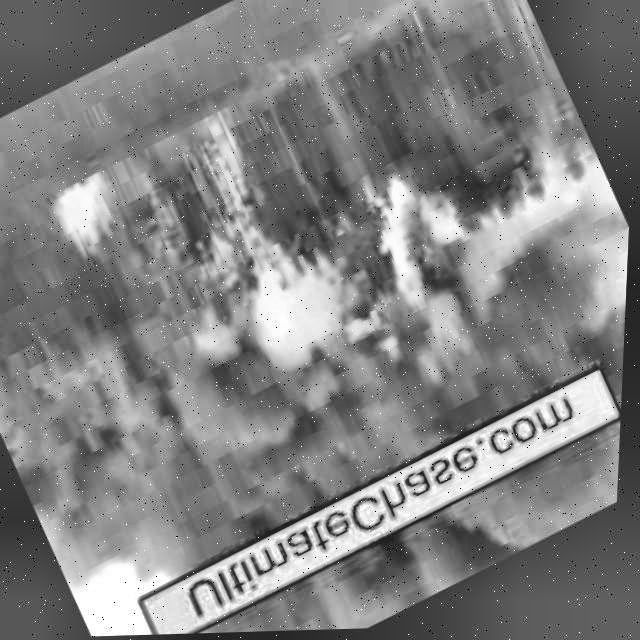Fire: (333, 159, 513, 367), (163, 100, 310, 278), (50, 164, 134, 253)
Smoke: (1, 146, 634, 628), (192, 392, 626, 635)
